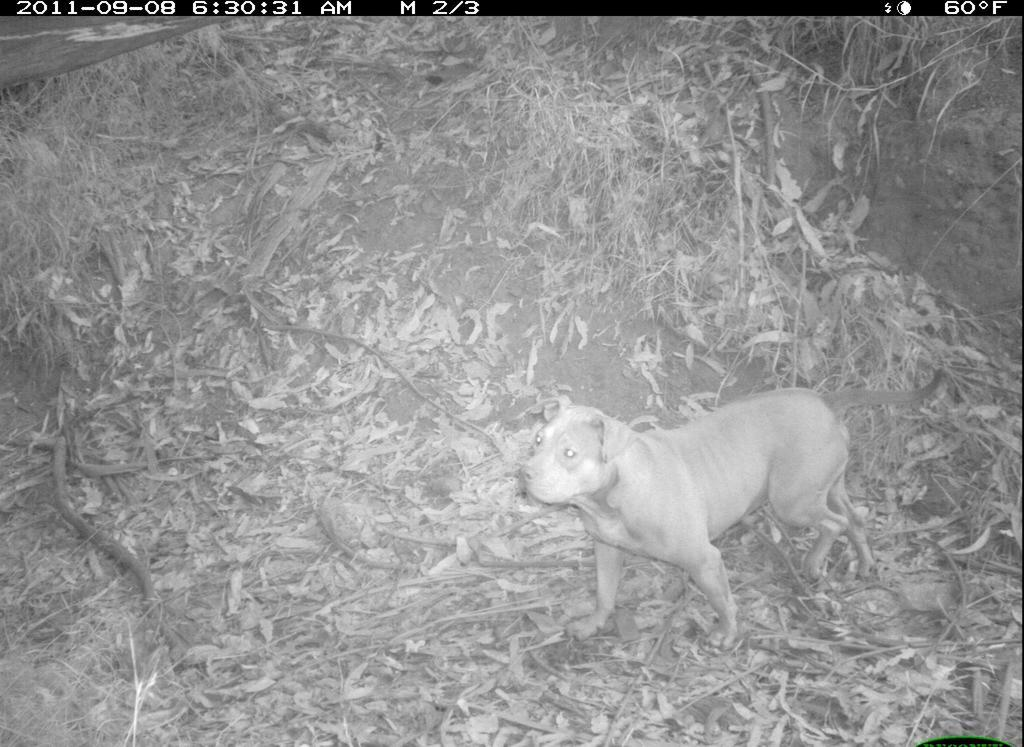dog: (507, 361, 959, 652)
